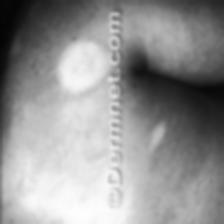Non-Cancerous Skin Condition: (49, 24, 107, 108), (139, 98, 175, 158)
